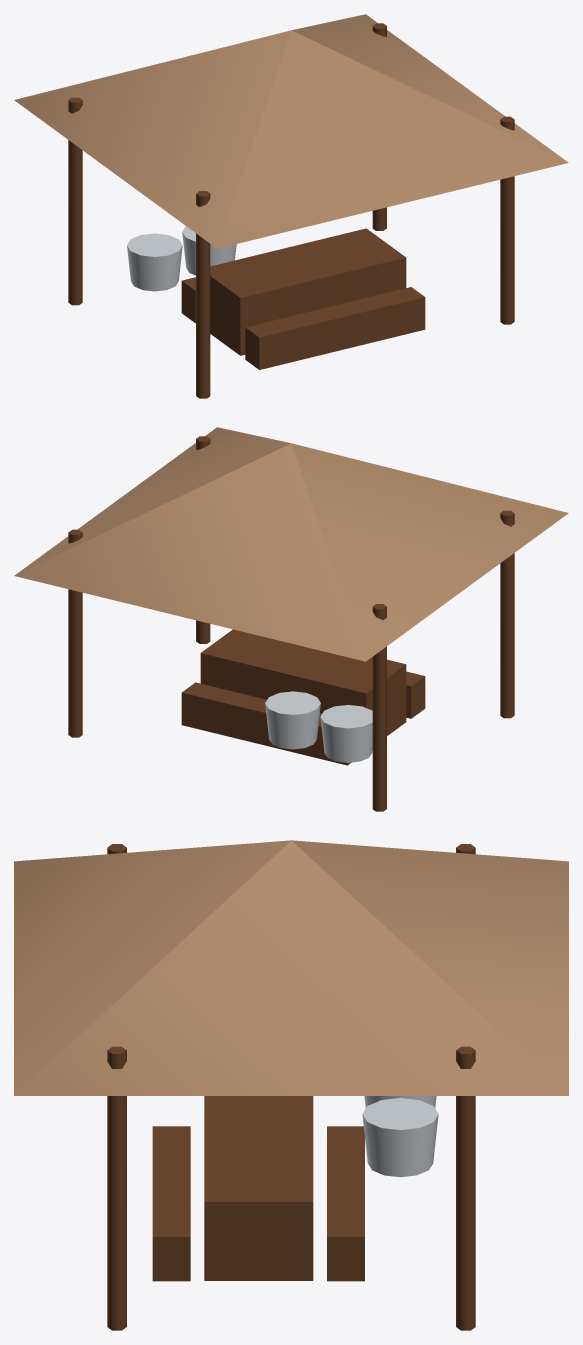
Rendered from chop_bar.glb.
3 renders of one model, top to bottom at view 1: azimuth 30°, elevation 25°; view 2: azimuth 150°, elevation 25°; view 3: azimuth 270°, elevation 25°, orthographic. The views are drawn at different scales.
Parts seen in each view (by area): view 1: ChopBar; view 2: ChopBar; view 3: ChopBar.
Boxes of the visible parts, x1,y1,x2,y2 form: ChopBar: (14,14,568,398); ChopBar: (14,427,568,811); ChopBar: (14,840,568,1330).
Bounding box in the file's own units: 5.09 × 3.9 × 5.09.
